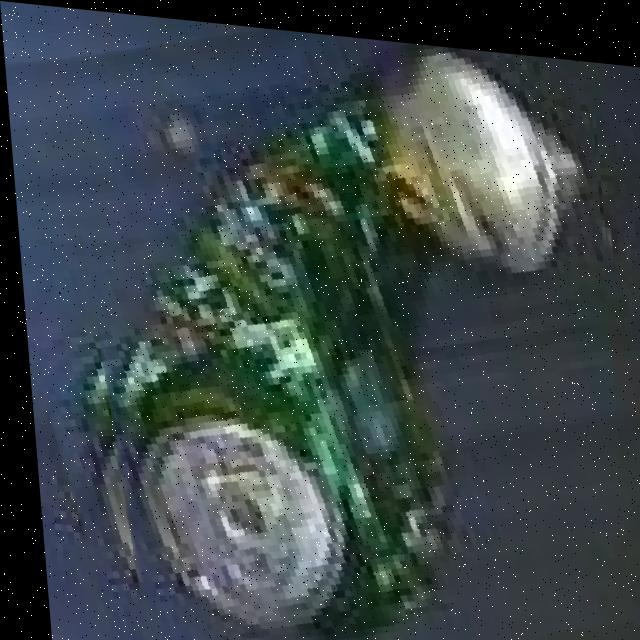can: (73, 26, 600, 640)
